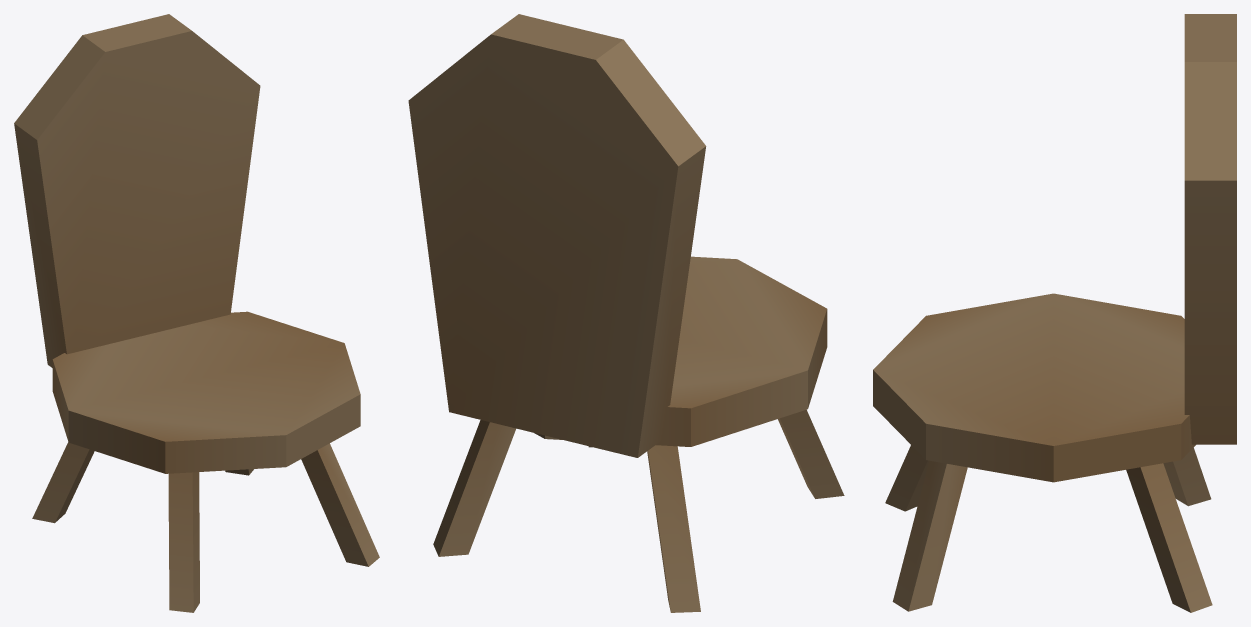
The model's file is girth_chair.glb.
The picture shows the model from 3 angles, left to right: view 1: azimuth 30°, elevation 25°; view 2: azimuth 150°, elevation 25°; view 3: azimuth 270°, elevation 25°; orthographic projection. The views are drawn at different scales.
Visible parts, largest first — view 1: Plane; view 2: Plane; view 3: Plane.
Boxes of the visible parts, left/top/right/bottom form: Plane: left=14, top=14, right=379, bottom=612; Plane: left=408, top=14, right=844, bottom=612; Plane: left=873, top=14, right=1236, bottom=612.
Bounding box in the file's own units: 1.8 × 2.82 × 1.81.
